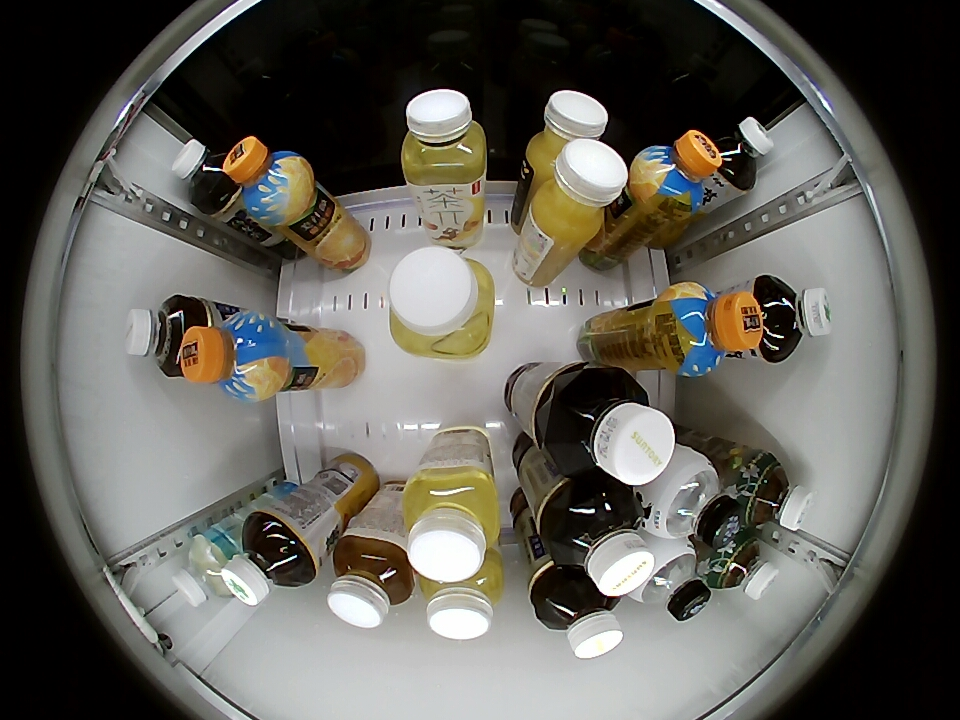chapai: (327, 532, 415, 628)
chapai2: (386, 246, 496, 361), (402, 467, 501, 583), (401, 89, 488, 186), (419, 553, 505, 640)
damaicha: (222, 511, 316, 605), (755, 276, 833, 362), (706, 117, 772, 192)
guolicheng: (657, 281, 762, 378), (181, 312, 286, 402), (631, 130, 721, 222), (223, 136, 312, 223)
moliqingcha: (734, 453, 815, 531), (707, 531, 779, 599)
nfc: (529, 140, 629, 243), (525, 91, 610, 173)
qinningshui: (173, 531, 236, 606)
wulongcha: (547, 370, 675, 485), (545, 485, 654, 597), (533, 574, 623, 659), (124, 295, 201, 376), (173, 139, 235, 211)
yuanqishui: (640, 448, 744, 546), (630, 539, 710, 621)
